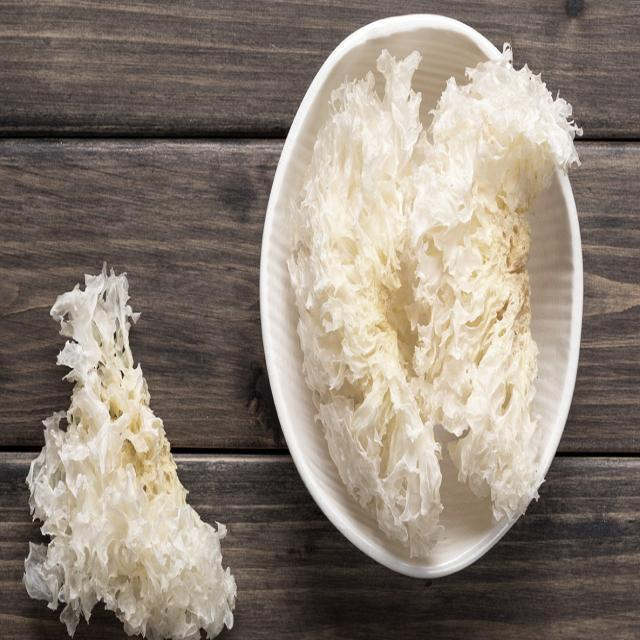Mushroom: (323, 70, 542, 510), (25, 266, 238, 640)
